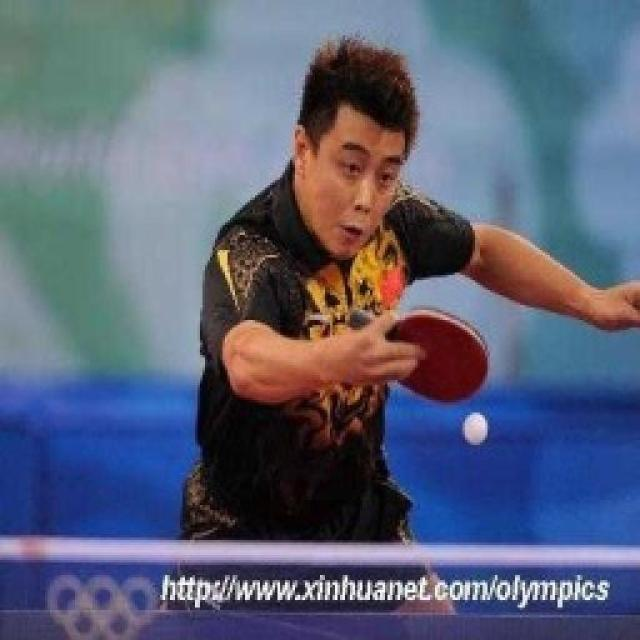oball: (459, 412, 489, 448)
